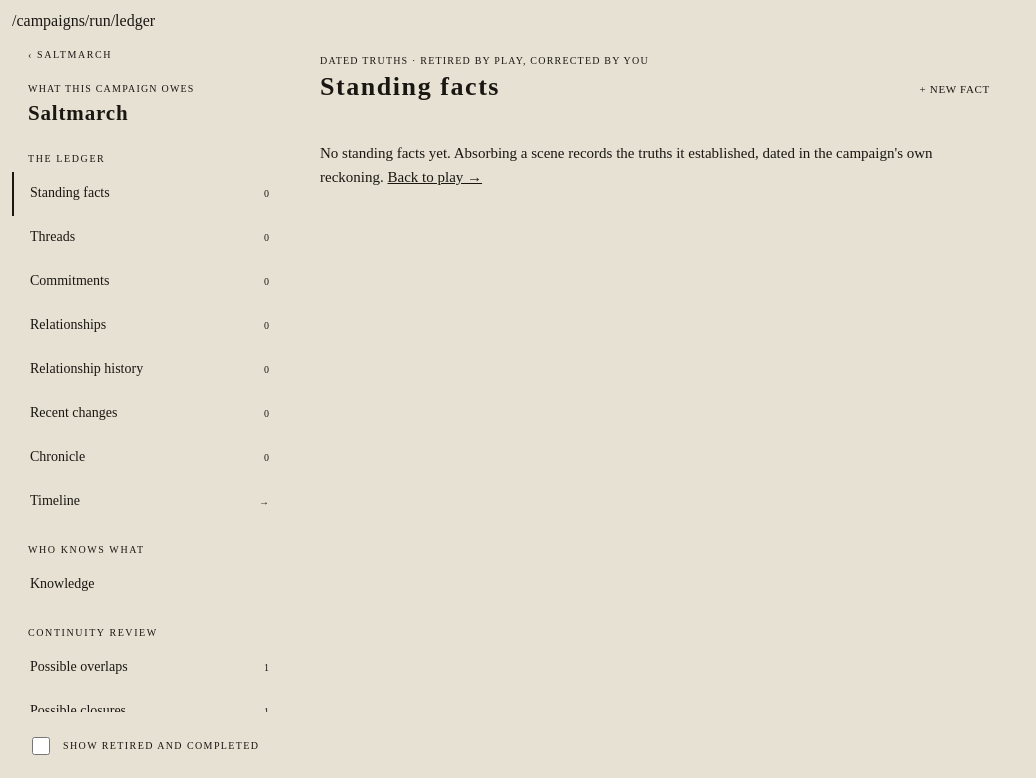
Test: selecting a group lists its findings
Click the button "Possible closures 1".
click(78, 711)  # box [12,690,286,734]
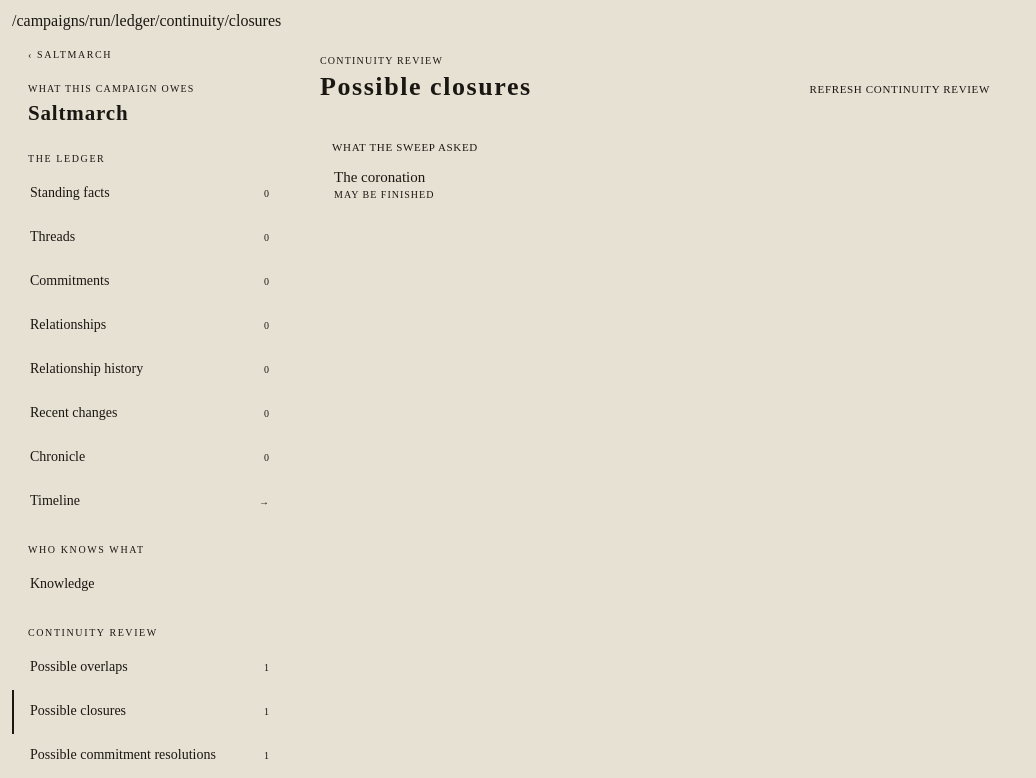
Result: the text with test id "here" reads "/campaigns/run/ledger/continuity/closures" at [12,12,281,29]
Result: the heading "Possible closures" is shown at [320,72,532,101]
Result: the button "The coronation May be finished" is shown at [320,159,1002,210]
